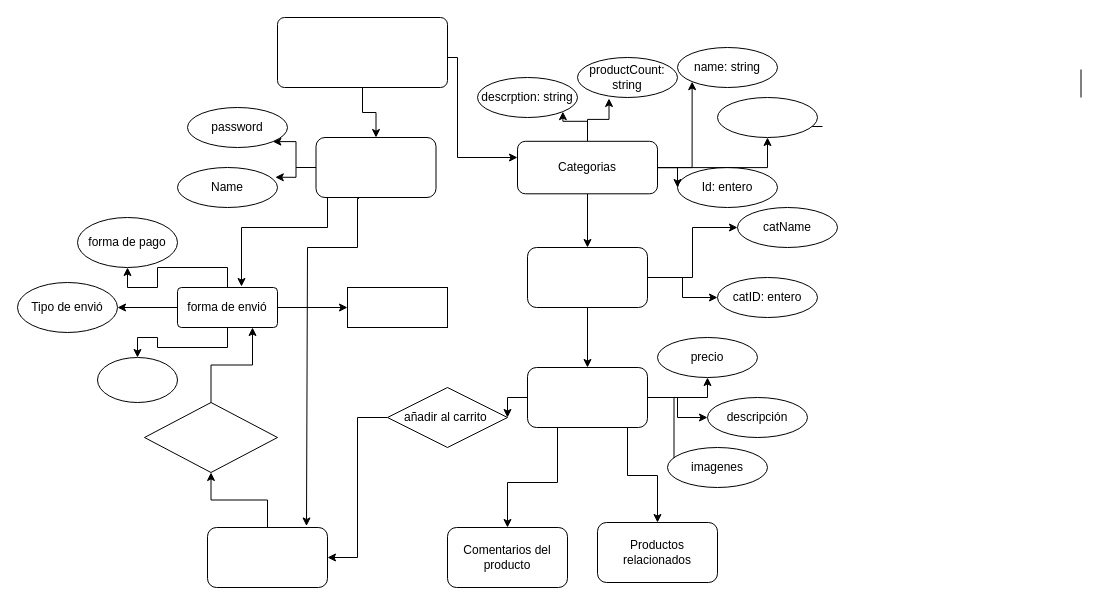
This 1100x605 diagram has some shape labels left out. Each missing label, with the centre of its shape:
Carrito de compra del usuario: [267,557]
comprar: [211,437]
dirección: [137,379]
finalizar compra: [397,307]
imgSrc: string: [767,117]
Listado de productos de la categoría: [587,277]
login: [362,52]
perfil: [375,167]
Productos: [587,397]
